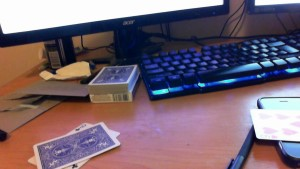NineOfHearts: (249, 106, 300, 141)
